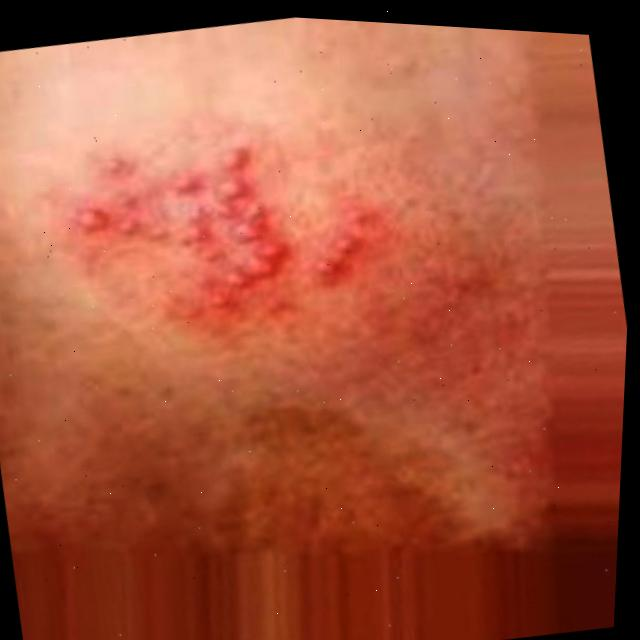Shingles: (48, 104, 376, 351)
